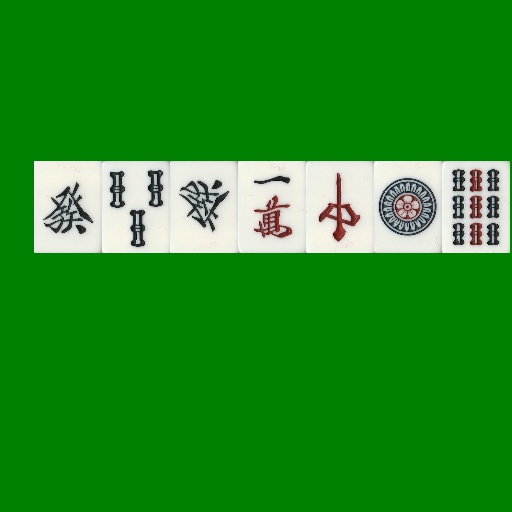1m: (238, 161, 306, 253)
1p: (374, 161, 442, 253)
3s: (102, 161, 170, 253)
9s: (442, 161, 510, 253)
hatsu: (34, 161, 102, 253), (170, 161, 238, 253)
tyun: (306, 161, 374, 253)
